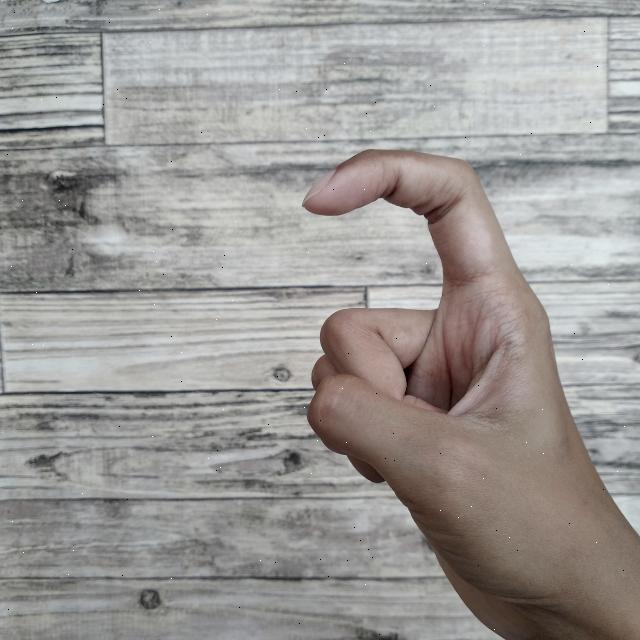X: (295, 141, 640, 640)
